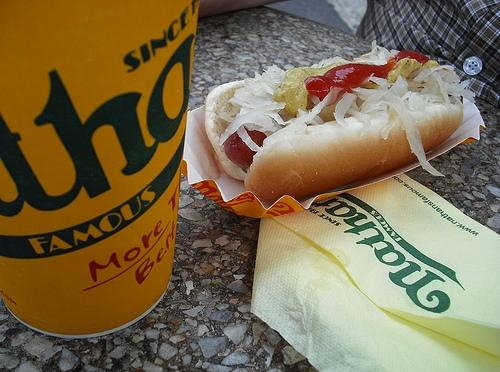onion: (264, 87, 344, 127), (220, 109, 278, 146), (334, 92, 357, 128), (432, 71, 451, 109), (353, 46, 390, 64), (436, 78, 470, 96), (227, 95, 273, 108), (388, 74, 409, 98), (296, 108, 324, 125), (342, 91, 360, 113), (252, 103, 286, 113), (418, 83, 438, 94), (246, 94, 266, 104), (262, 69, 284, 78), (260, 82, 274, 96), (448, 96, 464, 108), (255, 86, 272, 96), (385, 50, 400, 61), (262, 72, 272, 82), (358, 97, 364, 108), (450, 83, 460, 88)
